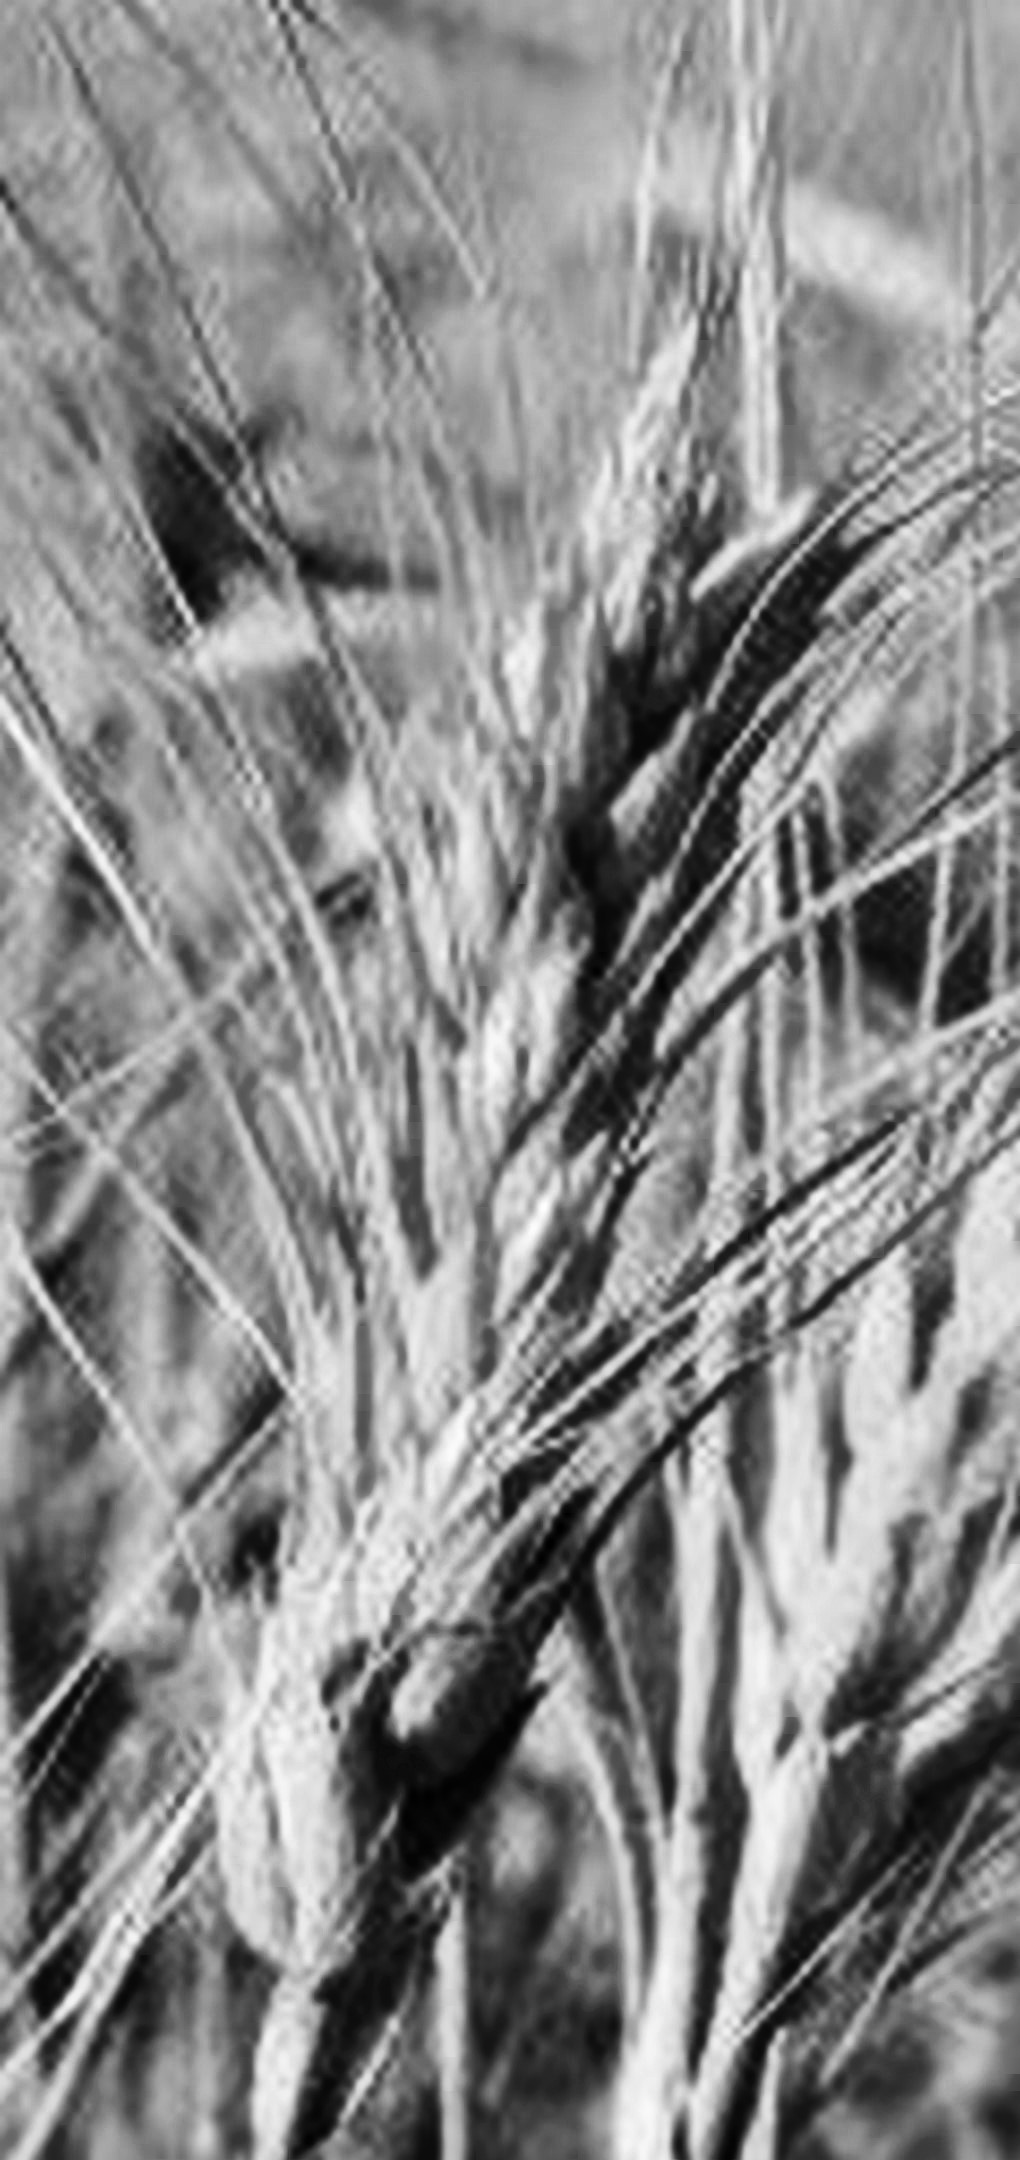Healthy Wheat: (211, 326, 877, 1982)
